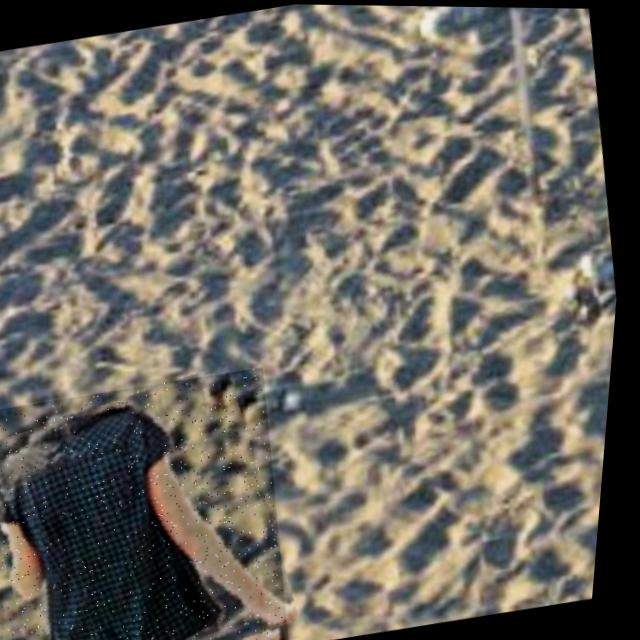Person in Rubble: (0, 362, 318, 640)
